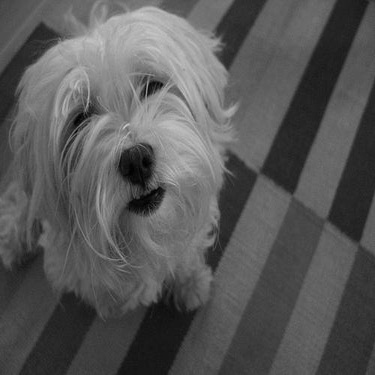dog: (5, 1, 243, 325)
